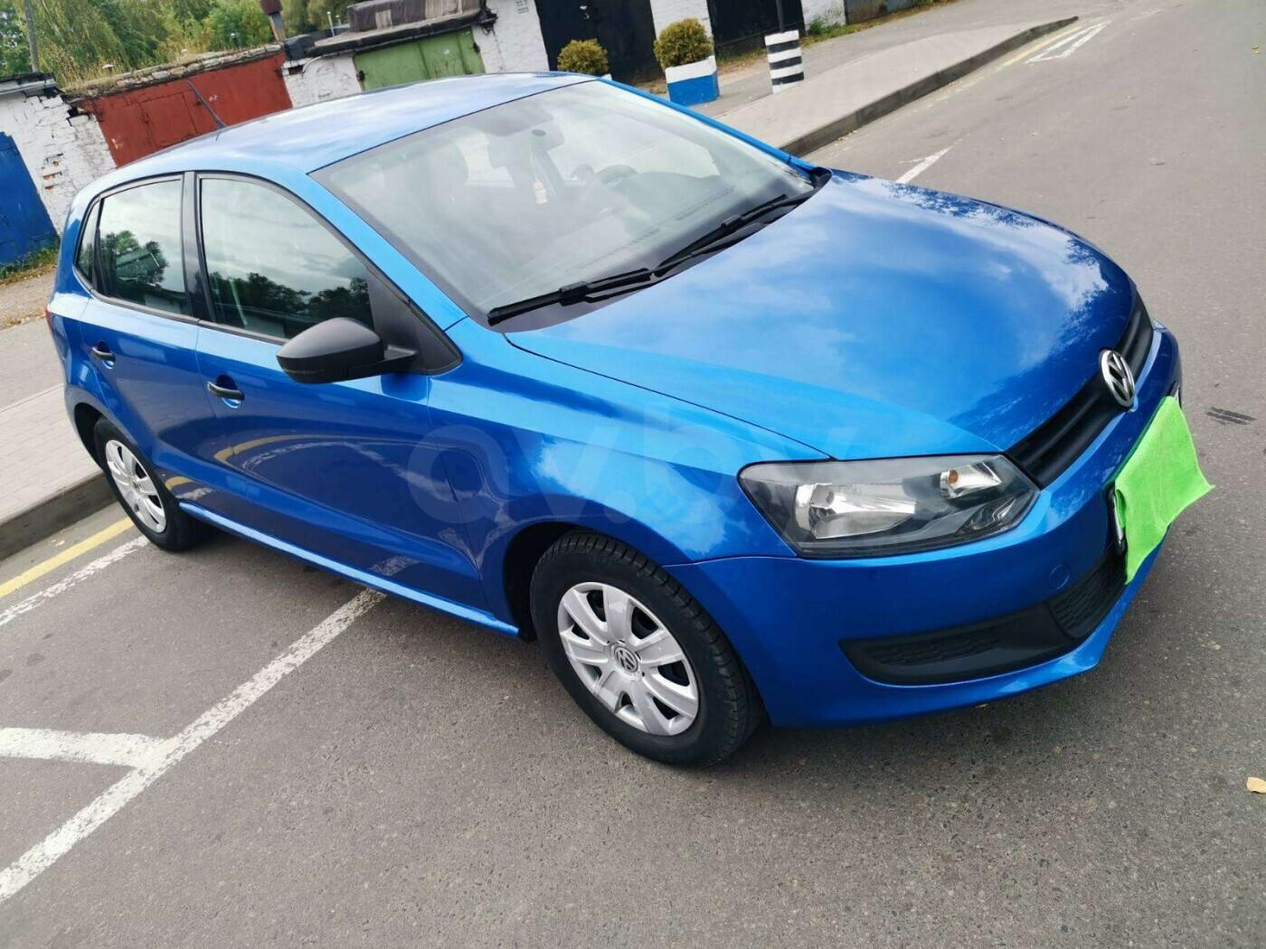Polo_2009-2015: (34, 37, 1239, 780)
